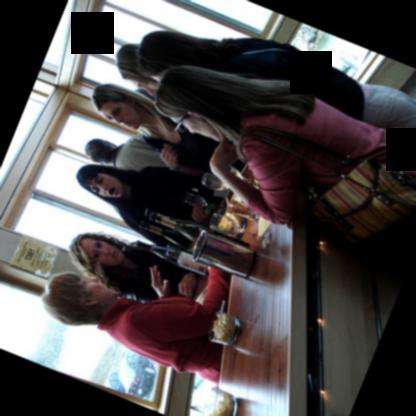handbag: (236, 123, 416, 247)
